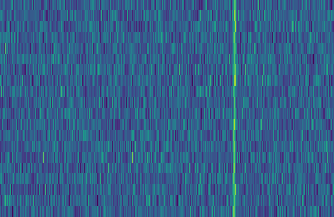signal: (230, 0, 240, 217)
